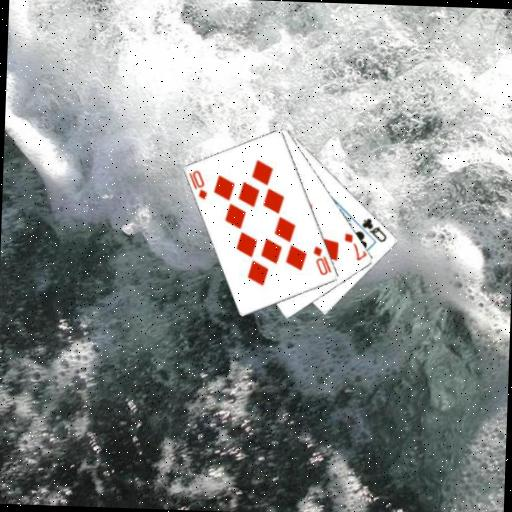10D: (185, 166, 210, 201), (310, 243, 334, 277)
7D: (340, 229, 368, 262)
QC: (358, 214, 389, 244)
